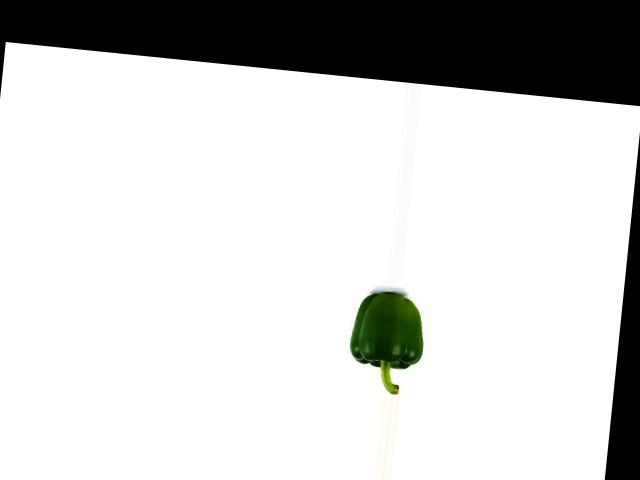bell_pepper: (334, 287, 429, 394)
